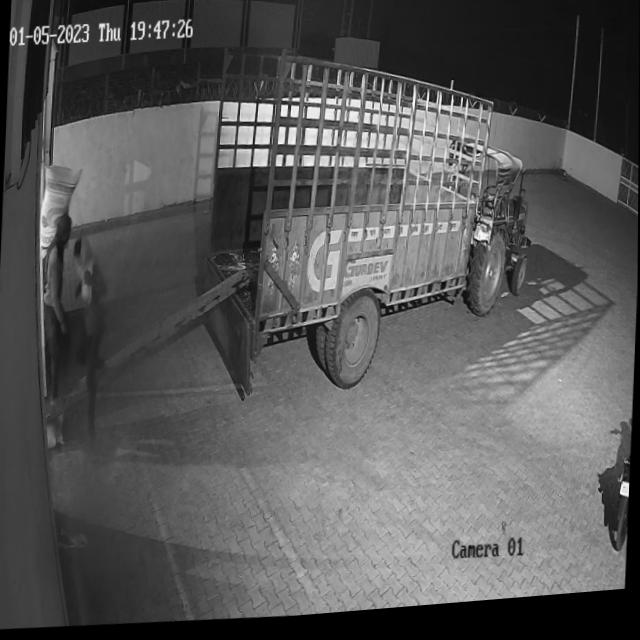sack: (37, 162, 82, 262)
